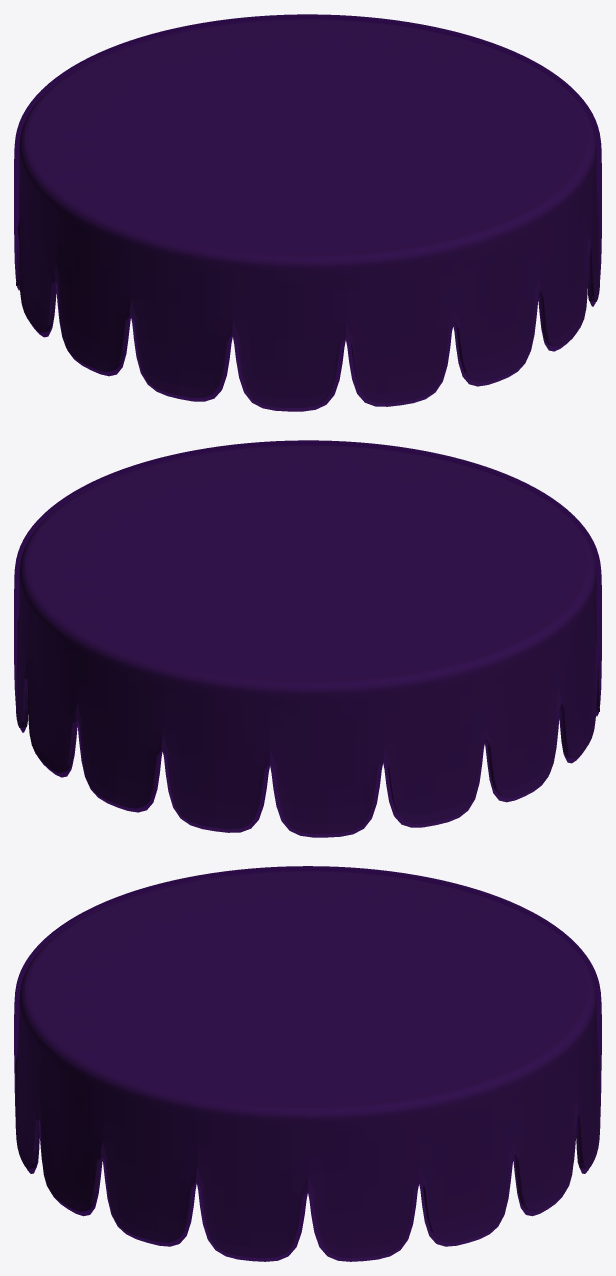
The model's file is circulo preto.glb.
3 views of the same model, one above another, from view 1: azimuth 30°, elevation 25°; view 2: azimuth 150°, elevation 25°; view 3: azimuth 270°, elevation 25° (orthographic).
Visible parts, largest first — view 1: Cylinder.020; view 2: Cylinder.020; view 3: Cylinder.020.
Part boxes in pixels (x1,y1,x2,y2): Cylinder.020: [14, 14, 601, 411]; Cylinder.020: [14, 440, 601, 837]; Cylinder.020: [14, 866, 601, 1261].
Size of the model in its own units: 22.21 by 6.54 by 22.21.
